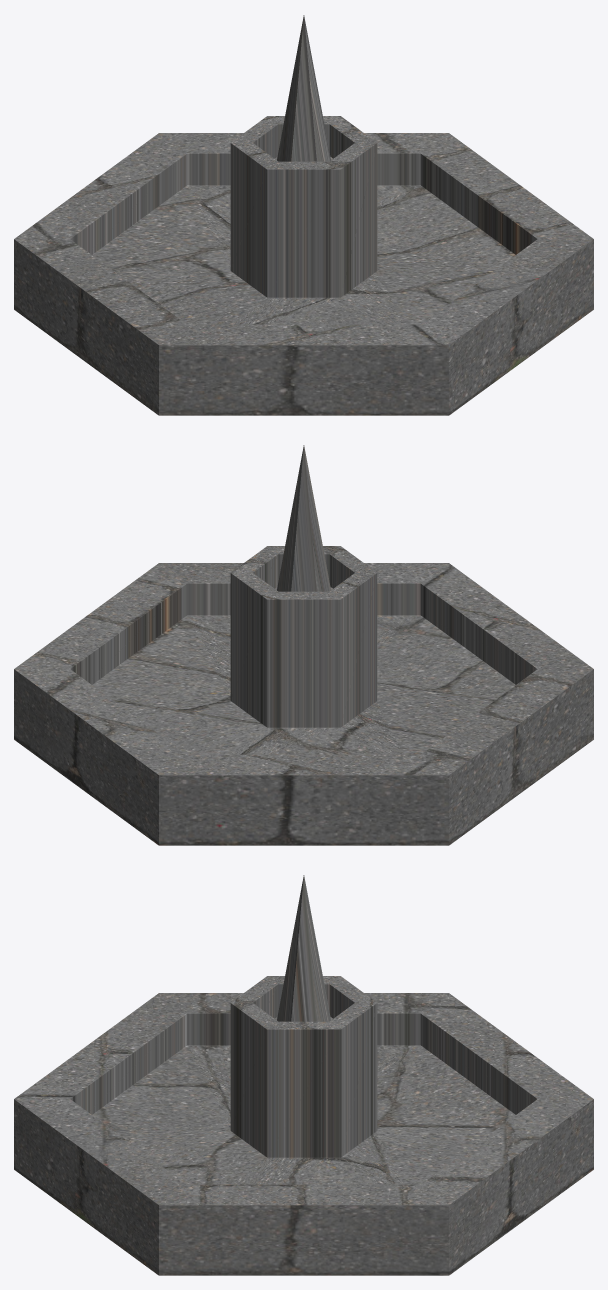
The model's file is Fonte.fbx.
The picture shows the model from 3 angles, top to bottom: view 1: azimuth 30°, elevation 25°; view 2: azimuth 150°, elevation 25°; view 3: azimuth 270°, elevation 25°; orthographic projection.
Parts seen in each view (by area): view 1: Cylinder; view 2: Cylinder; view 3: Cylinder.
Part boxes in pixels (x1,y1,x2,y2): Cylinder: (14,15,593,415); Cylinder: (14,445,593,845); Cylinder: (14,875,593,1275).
Size of the model in its own units: 973 by 632 by 1124.
